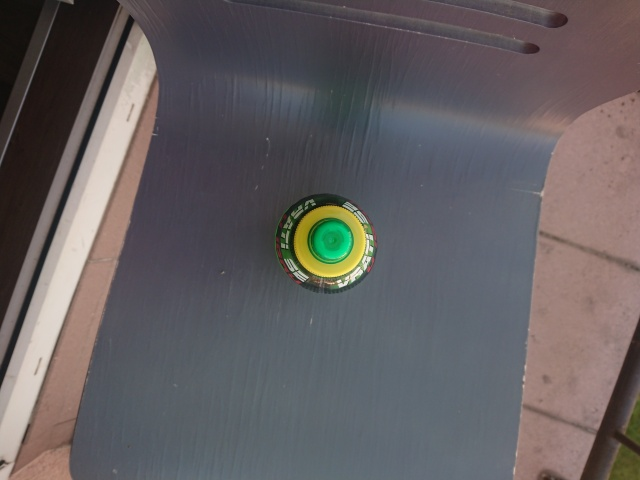Vindi Iso Sport Lemon-Grapefruit 500mL: (271, 190, 382, 298)
